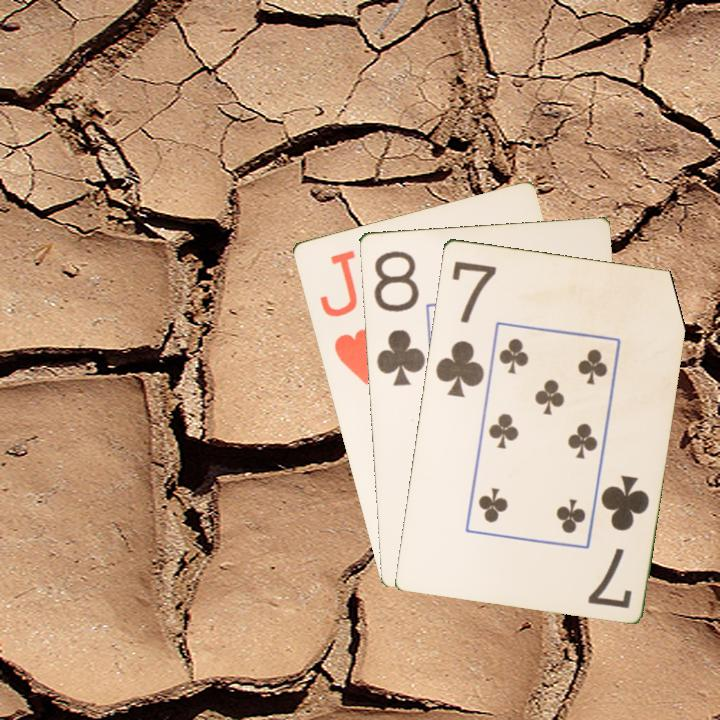7c: (431, 257, 499, 400), (583, 471, 652, 611)
8c: (370, 247, 428, 389)
Jh: (315, 246, 380, 388)
